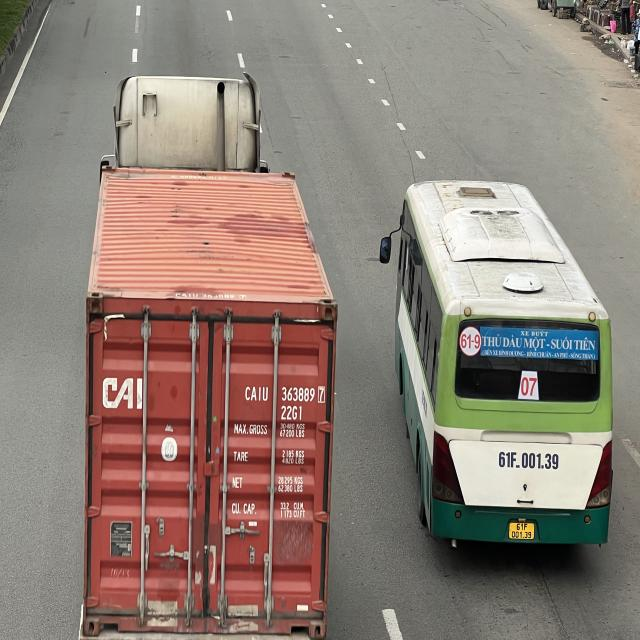coach: (380, 178, 613, 544)
container: (85, 74, 340, 640)
